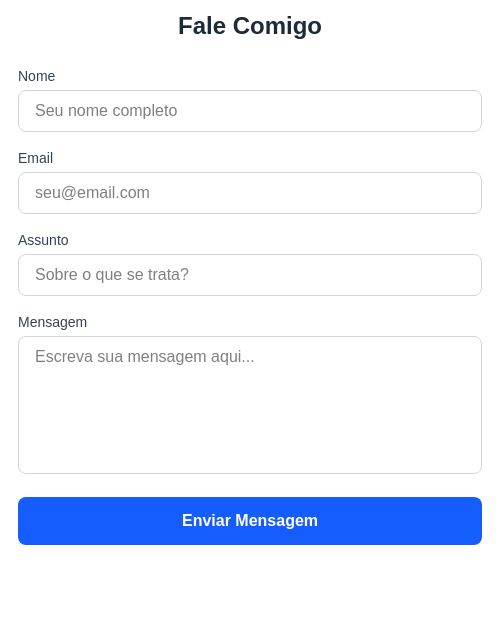
Test case: ContactForm › exibe mensagem de erro ao falhar o envio do formulário
Type "Ana" into the field labelled "Nome" at (250, 111), box x1=18 y1=90 x2=482 y2=132
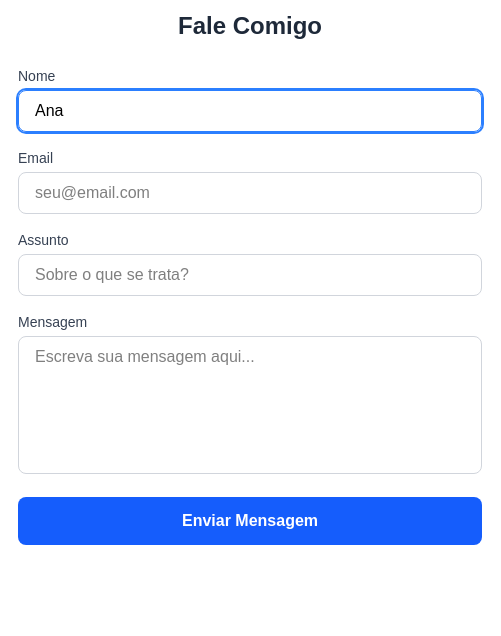
Type "ana@example.com" into the field labelled "Email" at (250, 193), box x1=18 y1=172 x2=482 y2=214
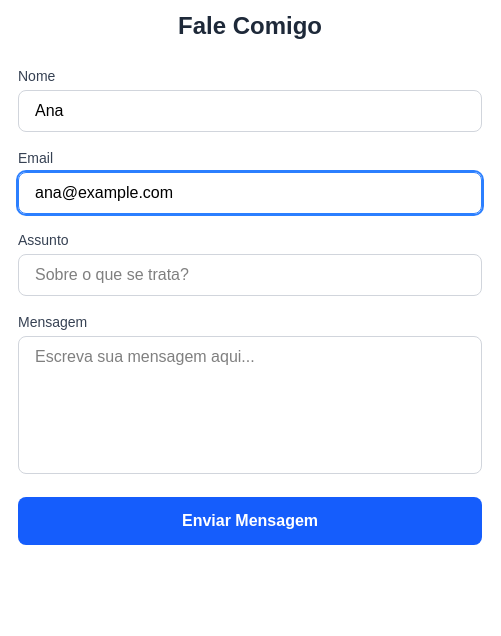
Type "Testando o envio de formulário" into the field labelled "Assunto" at (250, 275), box x1=18 y1=254 x2=482 y2=296
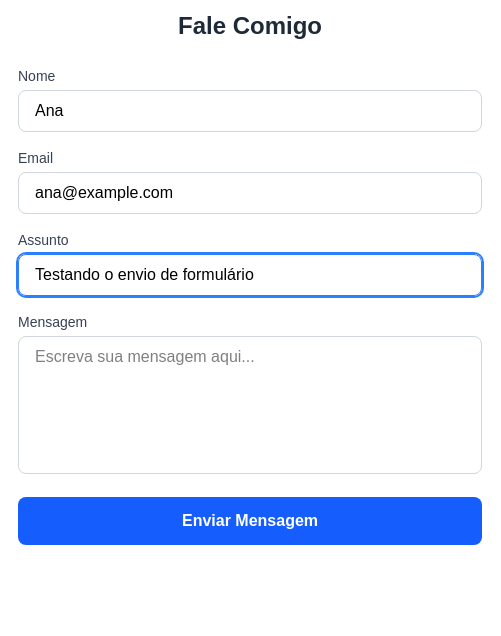
Type "Olá, gostaria de saber mais sobre seus serviços." into the text box labelled "Mensagem" at (250, 405), box x1=18 y1=336 x2=482 y2=474
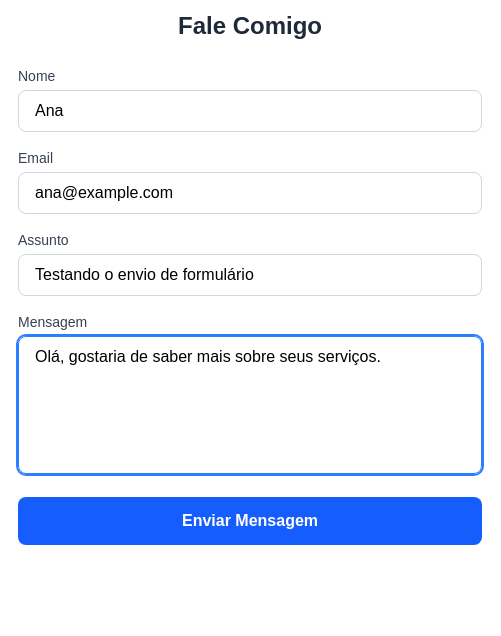
Click the button "Enviar Mensagem" at (250, 521), box x1=18 y1=497 x2=482 y2=545
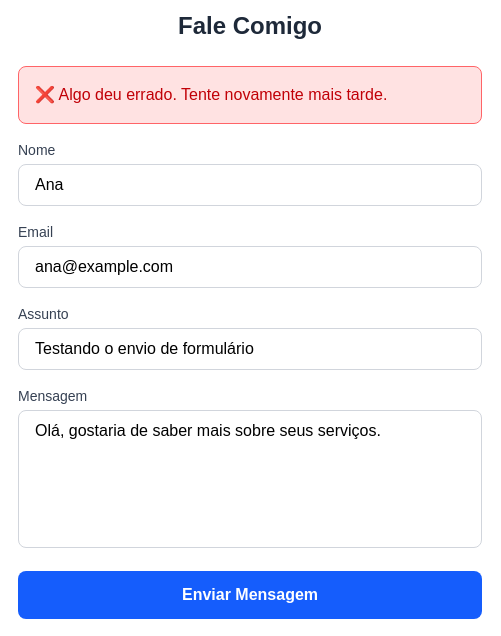
expect the text "❌ Algo deu errado. Tente novamente mais tarde." is shown: met, box x1=18 y1=66 x2=482 y2=124
